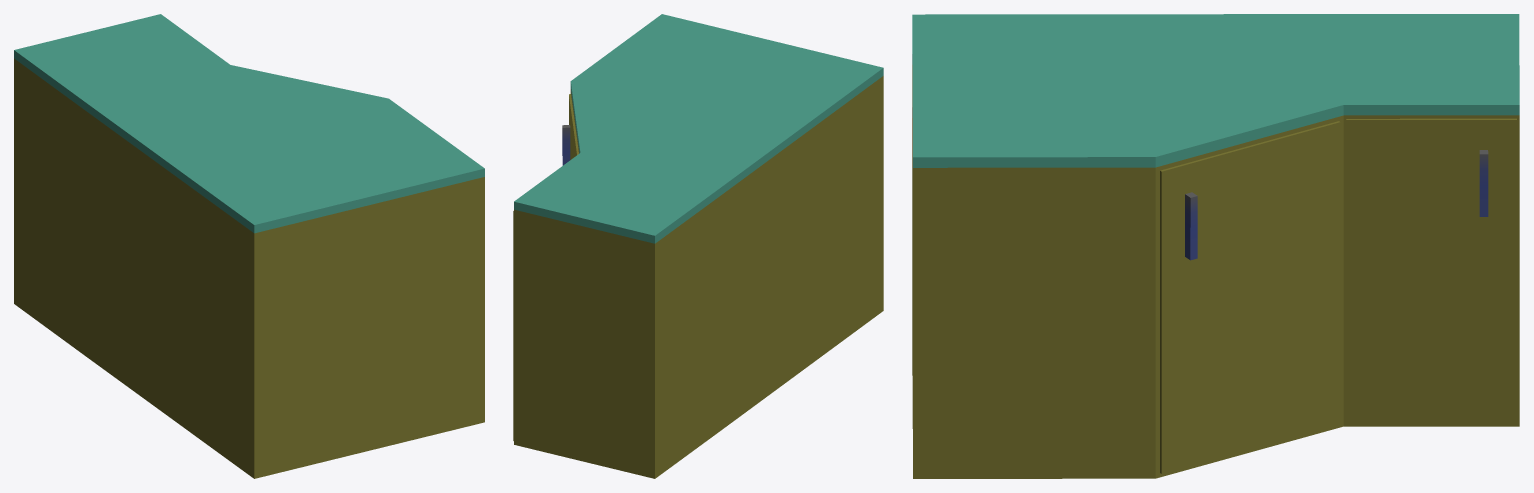
The model's file is Kitchen_Cabinet3.fbx.
The picture shows the model from 3 angles, left to right: view 1: azimuth 30°, elevation 25°; view 2: azimuth 150°, elevation 25°; view 3: azimuth 270°, elevation 25°; orthographic projection. The views are drawn at different scales.
Visible parts, largest first — view 1: Kitchen_Cabinet3; view 2: Kitchen_Cabinet3; view 3: Kitchen_Cabinet3.
Boxes of the visible parts, bbox=[...] form: Kitchen_Cabinet3: bbox=[14, 14, 484, 478]; Kitchen_Cabinet3: bbox=[513, 14, 883, 478]; Kitchen_Cabinet3: bbox=[912, 14, 1519, 478].
Size of the model in its own units: 124 by 129 by 221.
